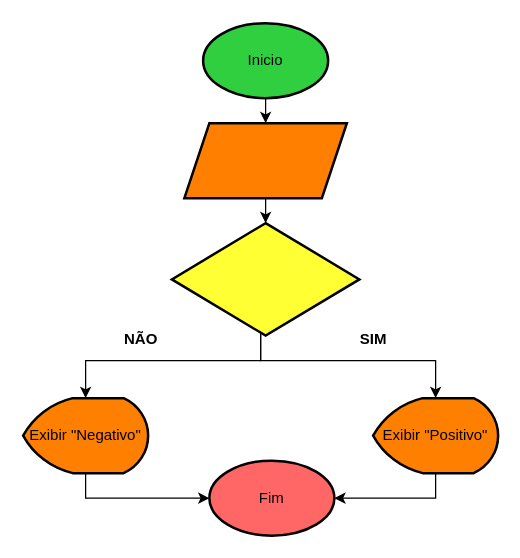
This 520x558 diagram has some shape labels left out. Each missing label, with the centre of its shape:
"Número recebido é maior do que 0?" goes at (265,278).
"Recebe número do usuário" goes at (265,160).
